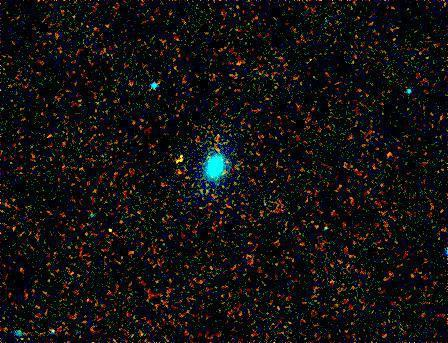star: (166, 143, 196, 173)
